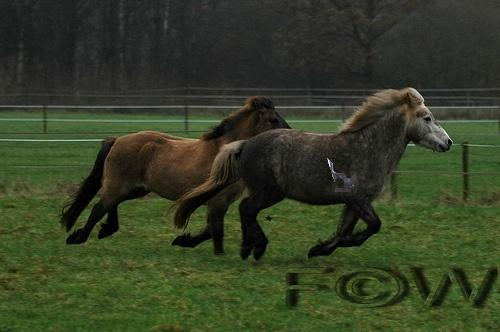tampered: (328, 159, 358, 192)
